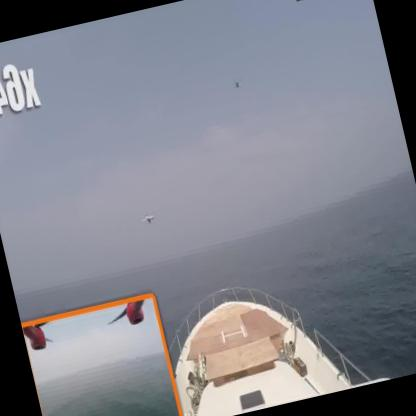drone: (138, 209, 159, 231), (231, 75, 244, 91)
